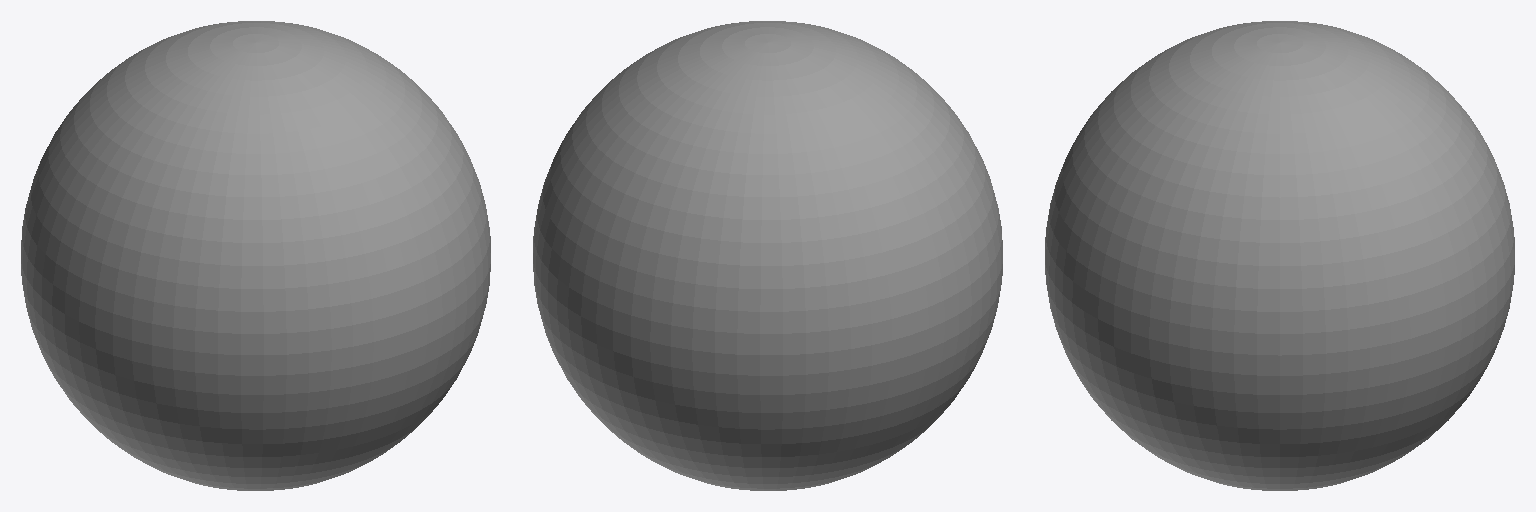
The model's file is uranus.obj.
3 renders of one model, left to right at view 1: azimuth 30°, elevation 25°; view 2: azimuth 150°, elevation 25°; view 3: azimuth 270°, elevation 25°, orthographic.
Parts seen in each view (by area): view 1: Sphere; view 2: Sphere; view 3: Sphere.
Boxes of the visible parts, x1,y1,x2,y2 form: Sphere: [21, 21, 490, 490]; Sphere: [533, 21, 1002, 490]; Sphere: [1045, 21, 1514, 490].
Bounding box in the file's own units: 50.72 × 50.72 × 50.72.